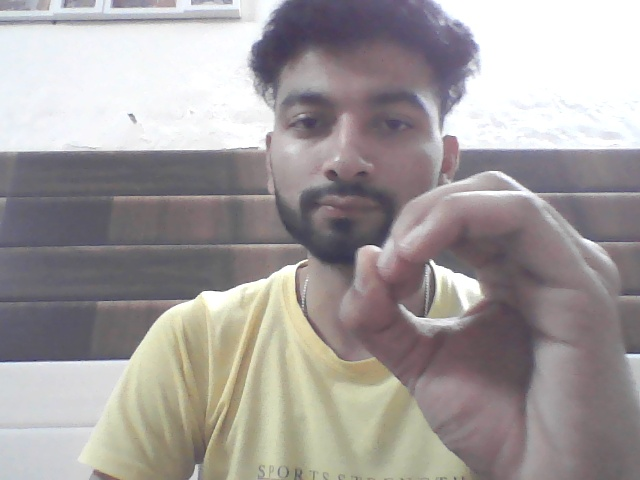No: (344, 157, 627, 468)
